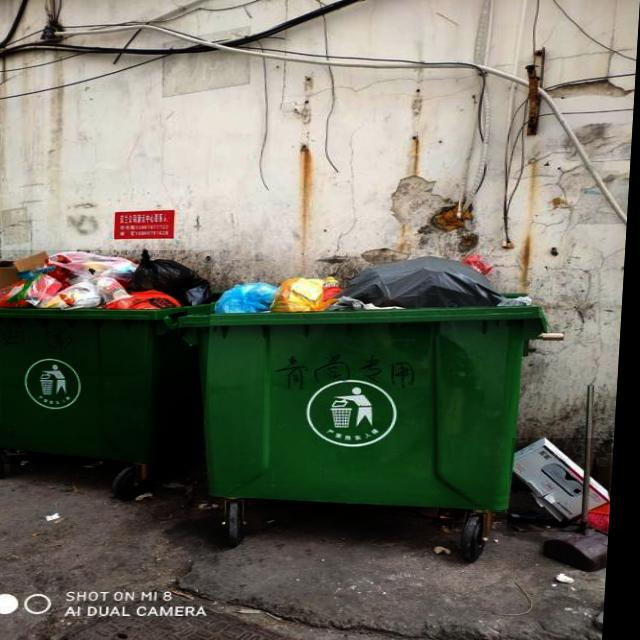garbage: (513, 438, 618, 532)
overflow: (182, 256, 551, 512), (0, 250, 217, 464)
